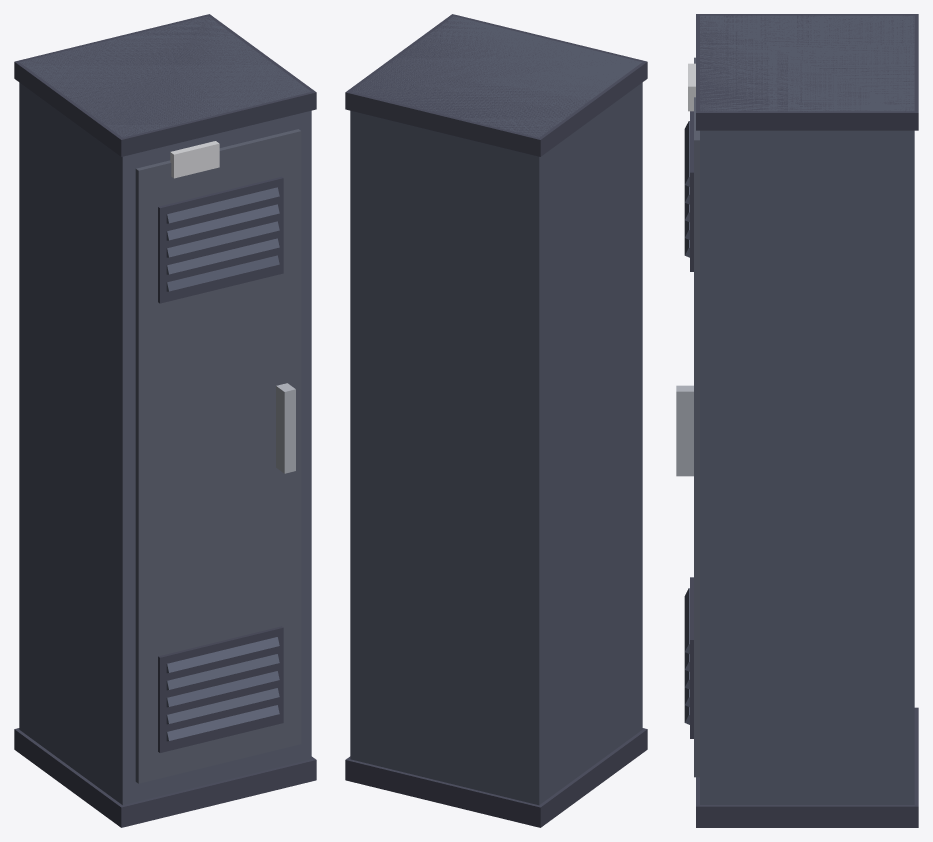
The model's file is Locker_Single.fbx.
3 views of the same model, side by side, from view 1: azimuth 30°, elevation 25°; view 2: azimuth 150°, elevation 25°; view 3: azimuth 270°, elevation 25° (orthographic). The views are drawn at different scales.
Visible parts, largest first — view 1: Locker_Single; view 2: Locker_Single; view 3: Locker_Single.
Part boxes in pixels (<box>): Locker_Single: <box>14,14,316,827</box>; Locker_Single: <box>345,14,647,827</box>; Locker_Single: <box>676,14,918,827</box>.
Bounding box in the file's own units: 0.6 × 2.02 × 0.62.
